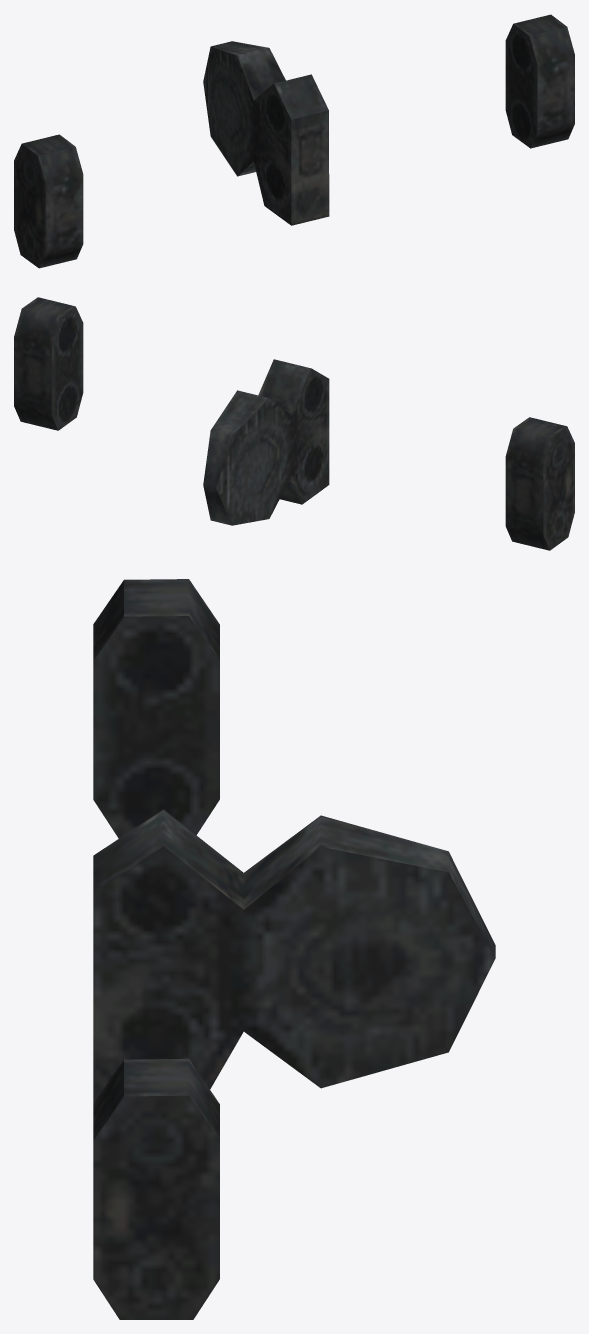
3 views of the same model, one above another, from view 1: azimuth 30°, elevation 25°; view 2: azimuth 150°, elevation 25°; view 3: azimuth 270°, elevation 25° (orthographic). The views are drawn at different scales.
Visible parts, largest first — view 1: set_0_group_0; view 2: set_0_group_0; view 3: set_0_group_0.
Part boxes in pixels (x1=…): set_0_group_0: x1=14, y1=14, x2=574, y2=268; set_0_group_0: x1=14, y1=297, x2=574, y2=550; set_0_group_0: x1=93, y1=579, x2=495, y2=1319.
Bounding box in the file's own units: 0.4202 × 0.0981 × 0.1383.
Materials: 1 (1 with a texture image).
